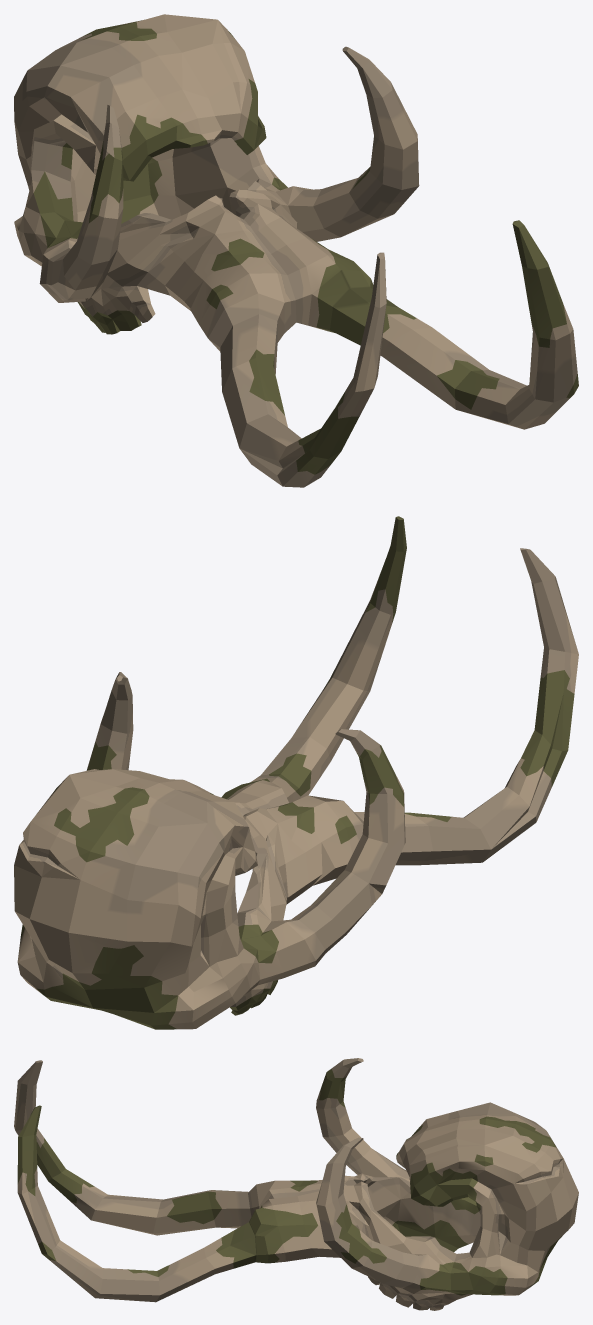
File: bog_bones_b.gltf
3 views of the same model, one above another, from view 1: azimuth 30°, elevation 25°; view 2: azimuth 150°, elevation 25°; view 3: azimuth 270°, elevation 25° (orthographic). The views are drawn at different scales.
Visible parts, largest first — view 1: bog_bones_b; view 2: bog_bones_b; view 3: bog_bones_b.
Part boxes in pixels (bbox=[...]): bog_bones_b: bbox=[14, 14, 578, 487]; bog_bones_b: bbox=[14, 516, 578, 1029]; bog_bones_b: bbox=[14, 1058, 578, 1310].
Bounding box in the file's own units: 2.25 × 1.83 × 4.74.
1 material, 1 textured.
